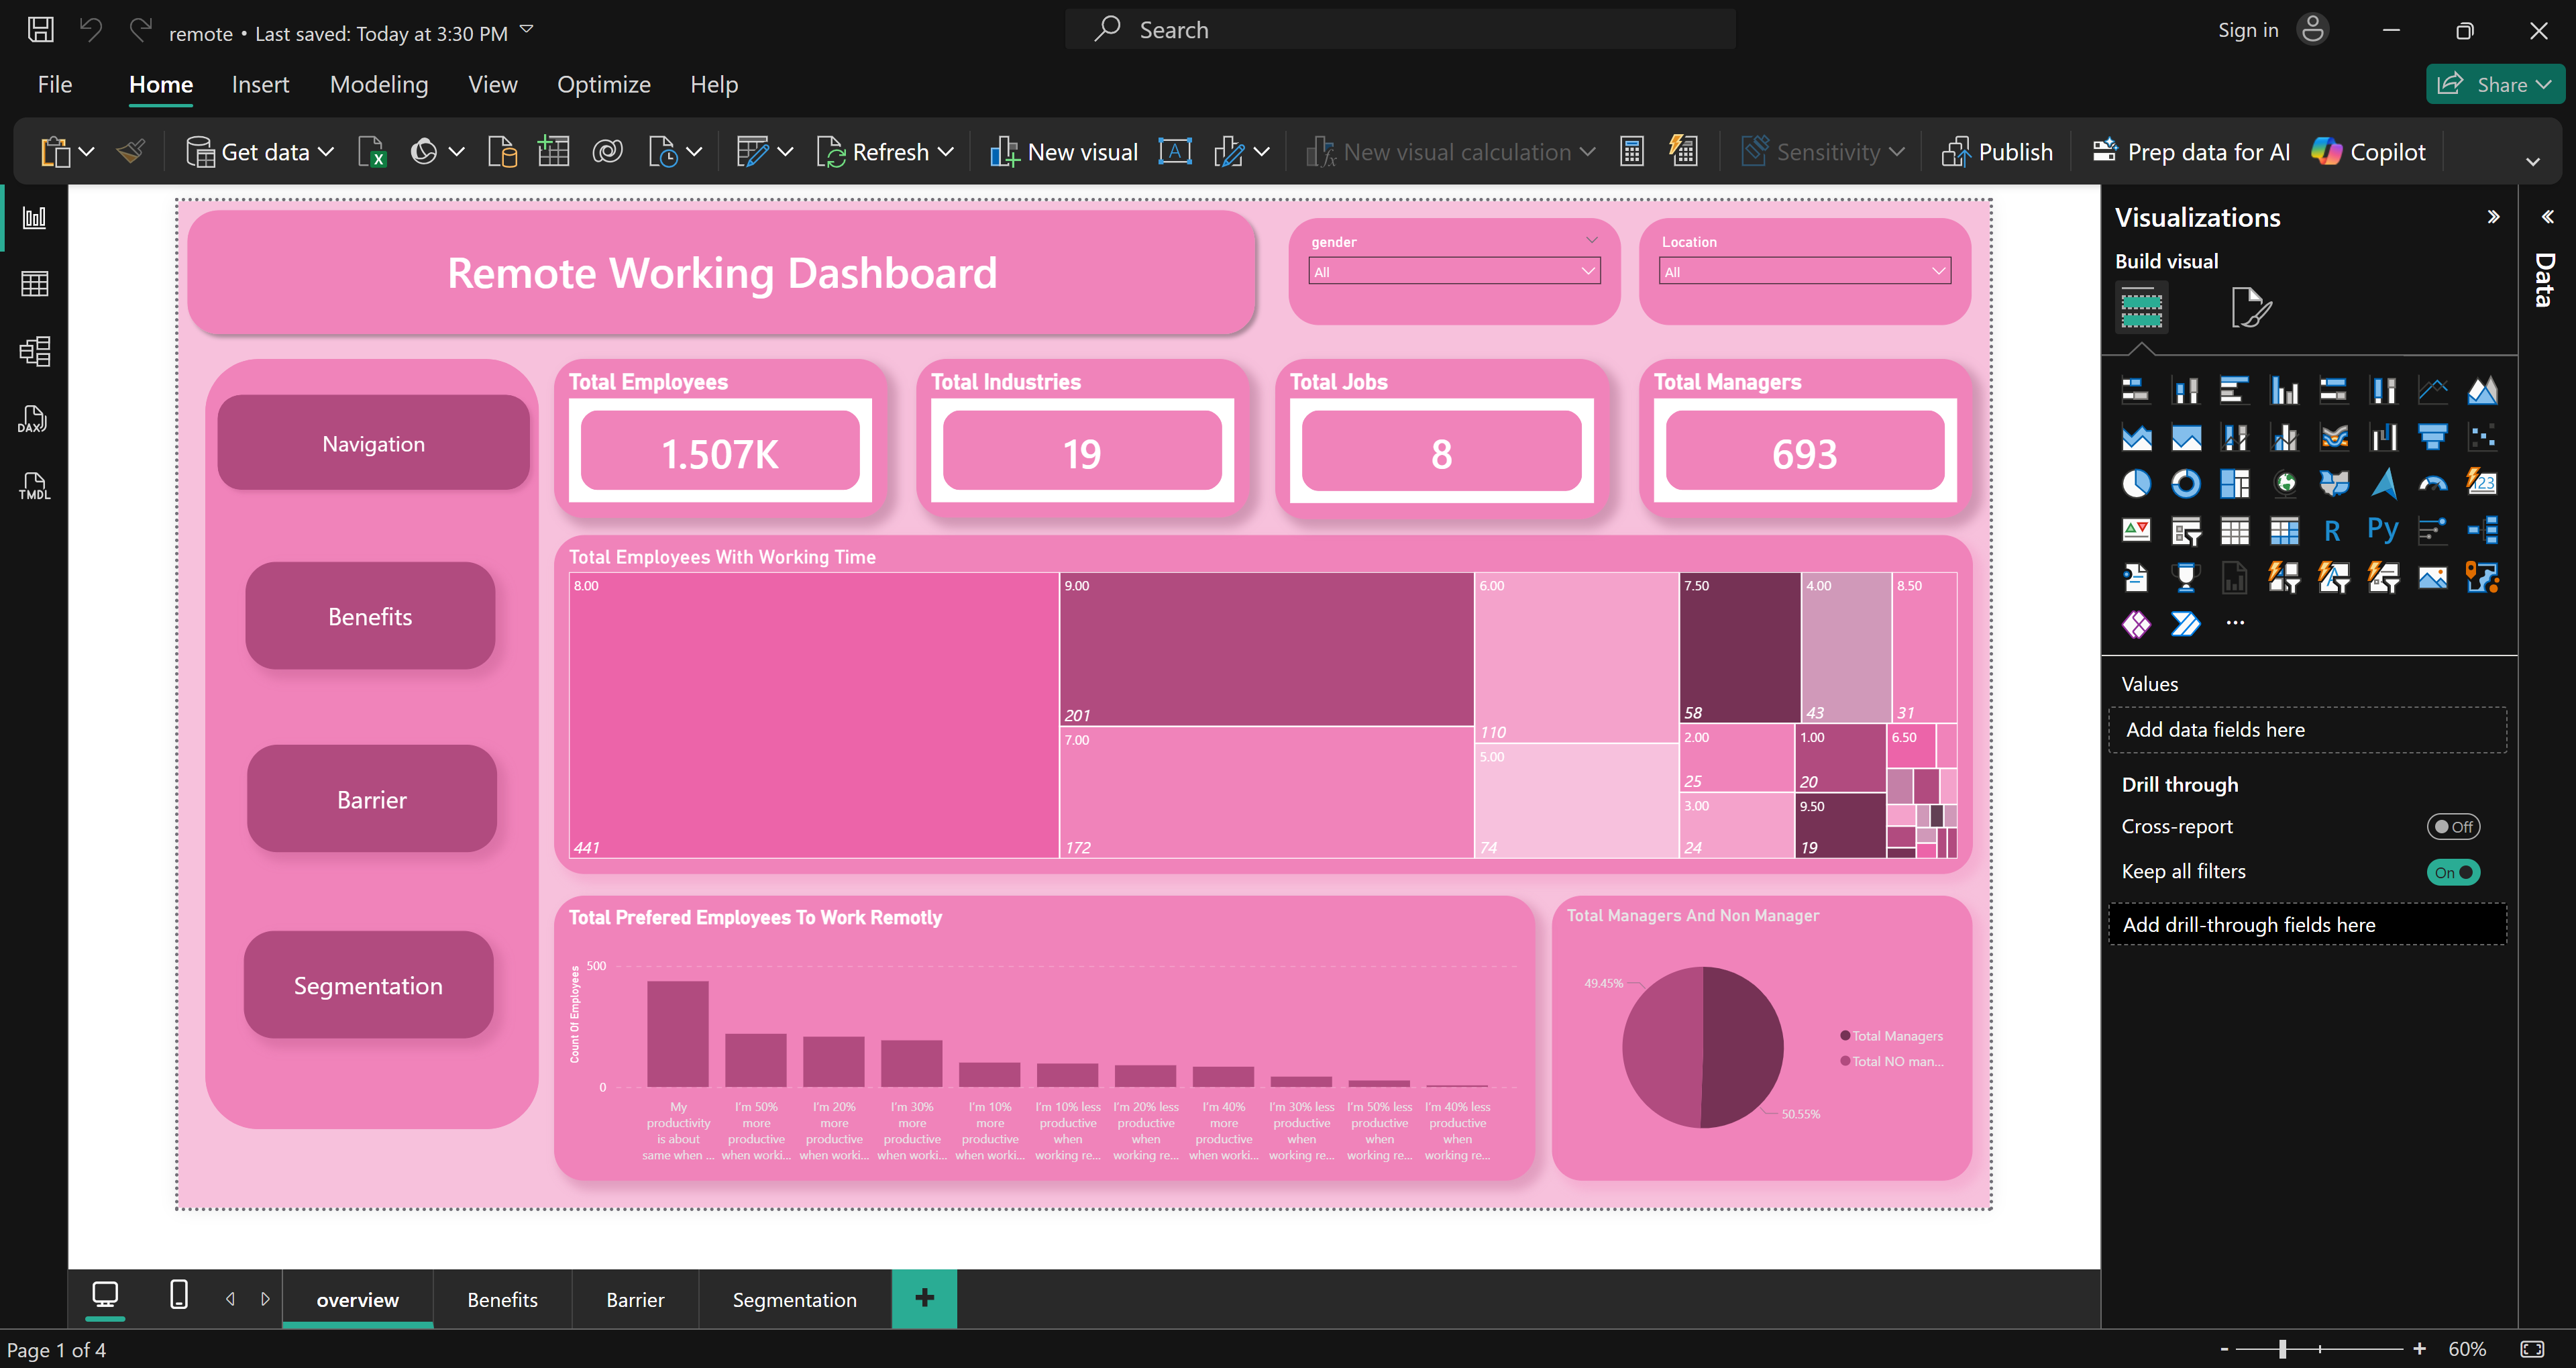

What the dashboard file says about the page in this screenshot:
{"tool":"powerbi","page":{"name":"overview","canvas":[1800,1000],"ordinal":0},"visuals":[{"type":"cardVisual","title":"Total Industries","fields":{"Data":["Count(remote_working_2020.Which of the following best describes your industry?)"]},"box":[733.4,156.5,331.1,157.7],"z":0,"group":"g1"},{"type":"treemap","title":"Total Employees With Working Time","fields":{"Values":["CountNonNull(RemoteWorking.Response ID)"],"Group":["RemoteWorking.On a day when you do remote work, how many hours would you spend doing the following activities? - Working"]},"box":[373.3,331.7,1410,336.7],"z":0},{"type":"cardVisual","title":"Total Employees","fields":{"Data":["CountNonNull(remote_working_2020.Response ID)"]},"box":[374.1,156.5,331.1,158.1],"z":1000,"group":"g1"},{"type":"pieChart","title":"Total Managers And Non Manager","fields":{"Y":["RemoteWorking.Managers Total","RemoteWorking.NO managers"]},"box":[1365.1,690.4,418,283.3],"z":1000},{"type":"cardVisual","title":"Total Managers","fields":{"Data":["RemoteWorking.Managers Total"]},"box":[1451.9,156.5,331.1,158.1],"z":2000,"group":"g1"},{"type":"clusteredColumnChart","title":"Total Prefered Employees To Work Remotly","fields":{"Category":["RemoteWorking.This question is about your productivity. Productivity means what you produce for each hour that you work."],"Y":["CountNonNull(RemoteWorking.Response ID)"]},"box":[374.1,690.4,975.3,283.3],"z":2000},{"type":"group","id":"g1","title":"Group 1","box":[374.1,156.5,1408.9,159.7],"z":3000},{"type":"cardVisual","title":"Total Jobs","fields":{"Data":["Count(remote_working_2020.Which of the following best describes your current occupation?)"]},"box":[1091.5,156.7,332.6,159],"z":3000,"group":"g1"},{"type":"shape","box":[0,0,1078.6,140.9],"z":4000},{"type":"textbox","box":[64.2,34.4,951.8,72],"z":5000},{"type":"slicer","fields":{"Values":["RemoteWorking.What is your gender?"]},"box":[1103.6,17.2,330.3,106.5],"z":6000},{"type":"slicer","fields":{"Values":["RemoteWorking.Metro / Regional"]},"box":[1451.2,17.2,330.3,106.5],"z":7000},{"type":"shape","box":[25.9,157.2,331.7,765.4],"z":8000},{"type":"shape","box":[29.4,183.1,328.3,112.3],"z":9000},{"type":"actionButton","box":[66.7,358.3,248.3,106.7],"z":10000},{"type":"actionButton","box":[68.3,540,248.3,106.7],"z":11000},{"type":"actionButton","box":[65,725,248.3,106.7],"z":12000}]}

Visuals, with their boxes on the page's 1800x1000 design canvas (x1, y1, x2, y2). These are canvas units, not pixel positions in the 2576x1368 screenshot, which may show the page scaled, cropped or inside an application window:
"Total Industries" cardVisual: x1=733 y1=156 x2=1064 y2=314
"Total Employees With Working Time" treemap: x1=373 y1=332 x2=1783 y2=668
"Total Employees" cardVisual: x1=374 y1=156 x2=705 y2=315
"Total Managers And Non Manager" pieChart: x1=1365 y1=690 x2=1783 y2=974
"Total Managers" cardVisual: x1=1452 y1=156 x2=1783 y2=315
"Total Prefered Employees To Work Remotly" clusteredColumnChart: x1=374 y1=690 x2=1349 y2=974
"Group 1" group: x1=374 y1=156 x2=1783 y2=316
"Total Jobs" cardVisual: x1=1092 y1=157 x2=1424 y2=316
shape: x1=0 y1=0 x2=1079 y2=141
textbox: x1=64 y1=34 x2=1016 y2=106
slicer - RemoteWorking.What is your gender?: x1=1104 y1=17 x2=1434 y2=124
slicer - RemoteWorking.Metro / Regional: x1=1451 y1=17 x2=1782 y2=124
shape: x1=26 y1=157 x2=358 y2=923
shape: x1=29 y1=183 x2=358 y2=295
actionButton: x1=67 y1=358 x2=315 y2=465
actionButton: x1=68 y1=540 x2=317 y2=647
actionButton: x1=65 y1=725 x2=313 y2=832
